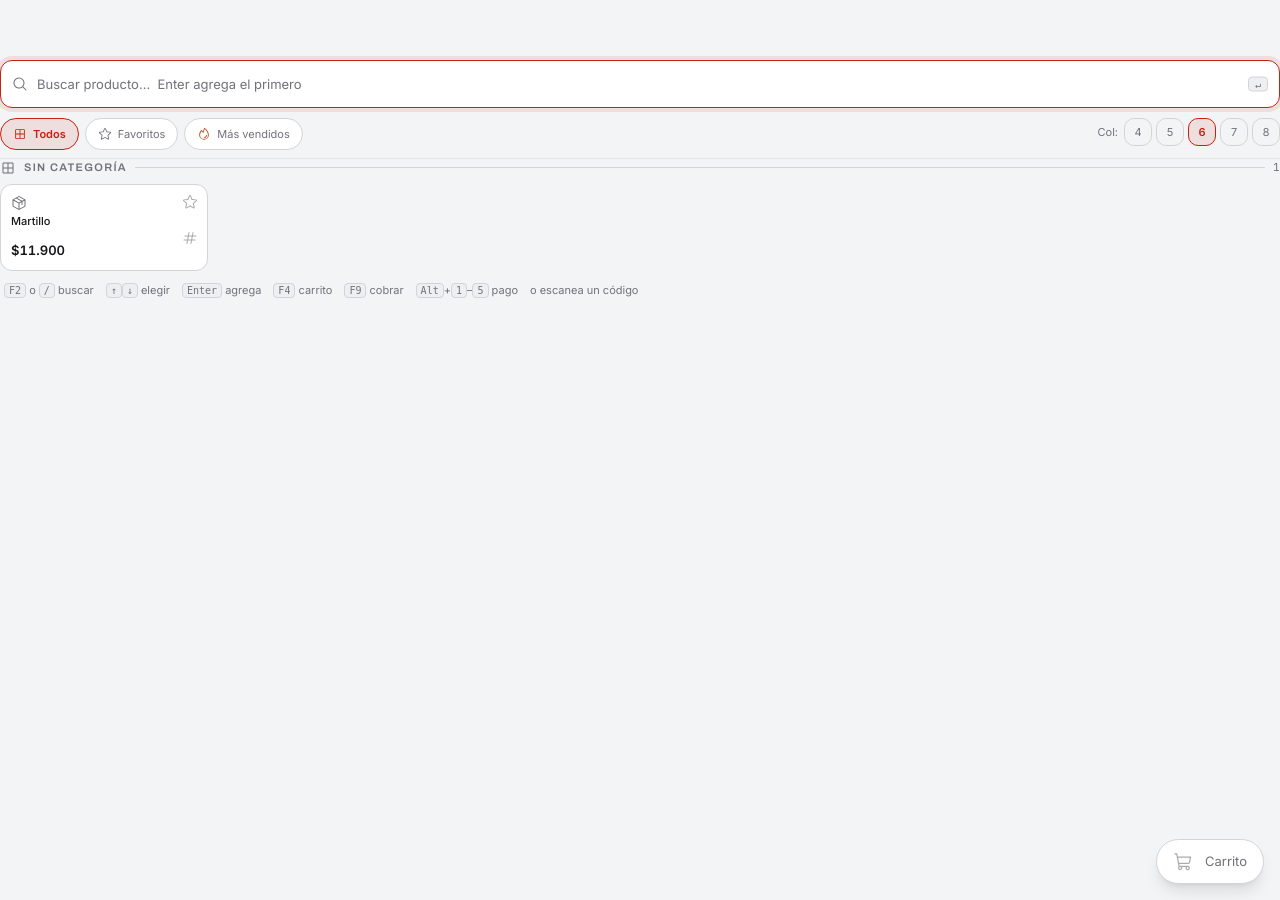
Test: TabVentasRapidas — cantidad rápida y barcode › el código de barras resuelve contra el catálogo LOCAL sin ir al servidor
The width and height of the screenshot is (1280, 900).
Expected: the button with aria-label "Agregar Martillo" is shown, [0,184,208,271]
Press 7
Press 7
Press 0
Press 1
Press Enter
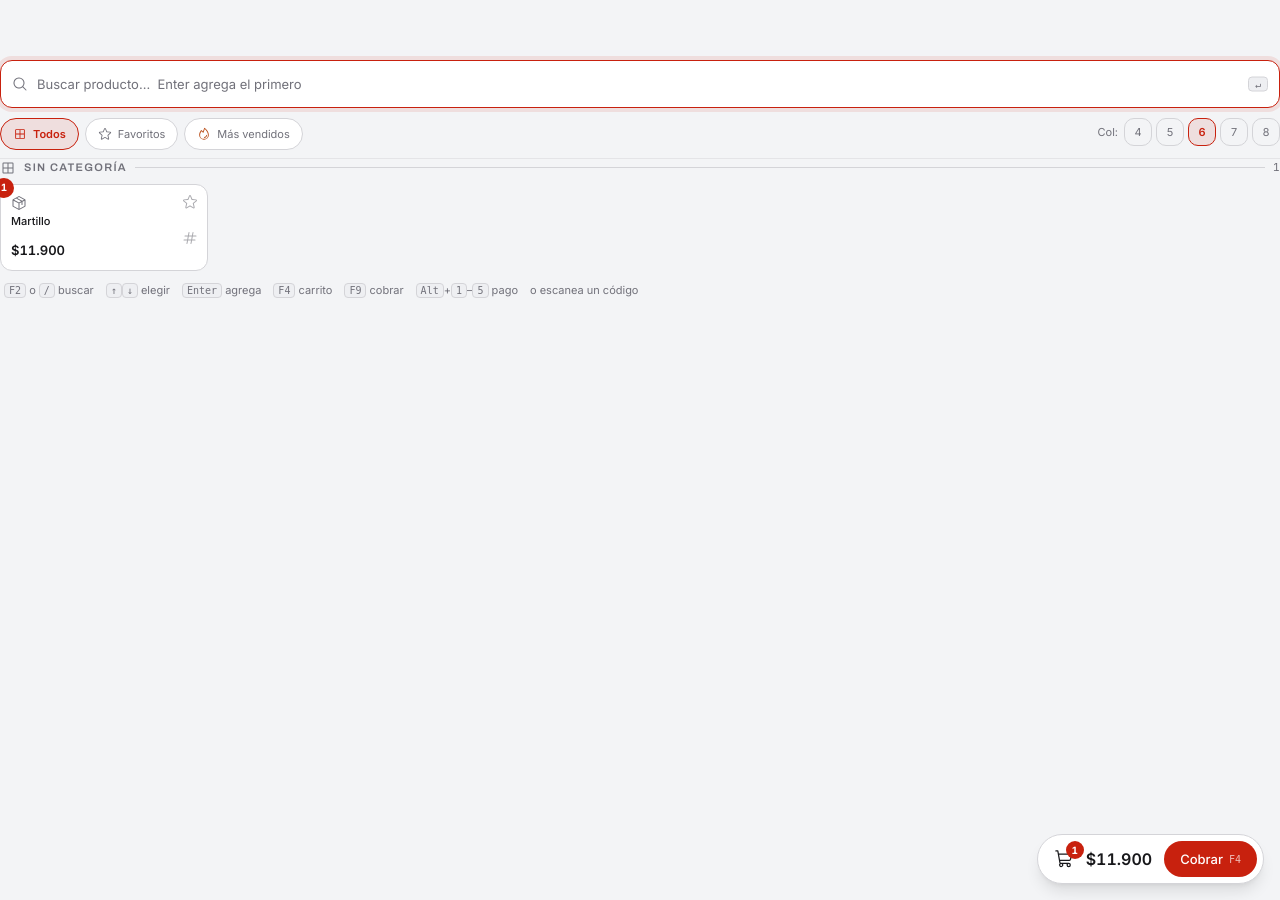
Click the button with aria-label "Abrir carrito": coordinates (1150, 859) [1037,834,1264,884]
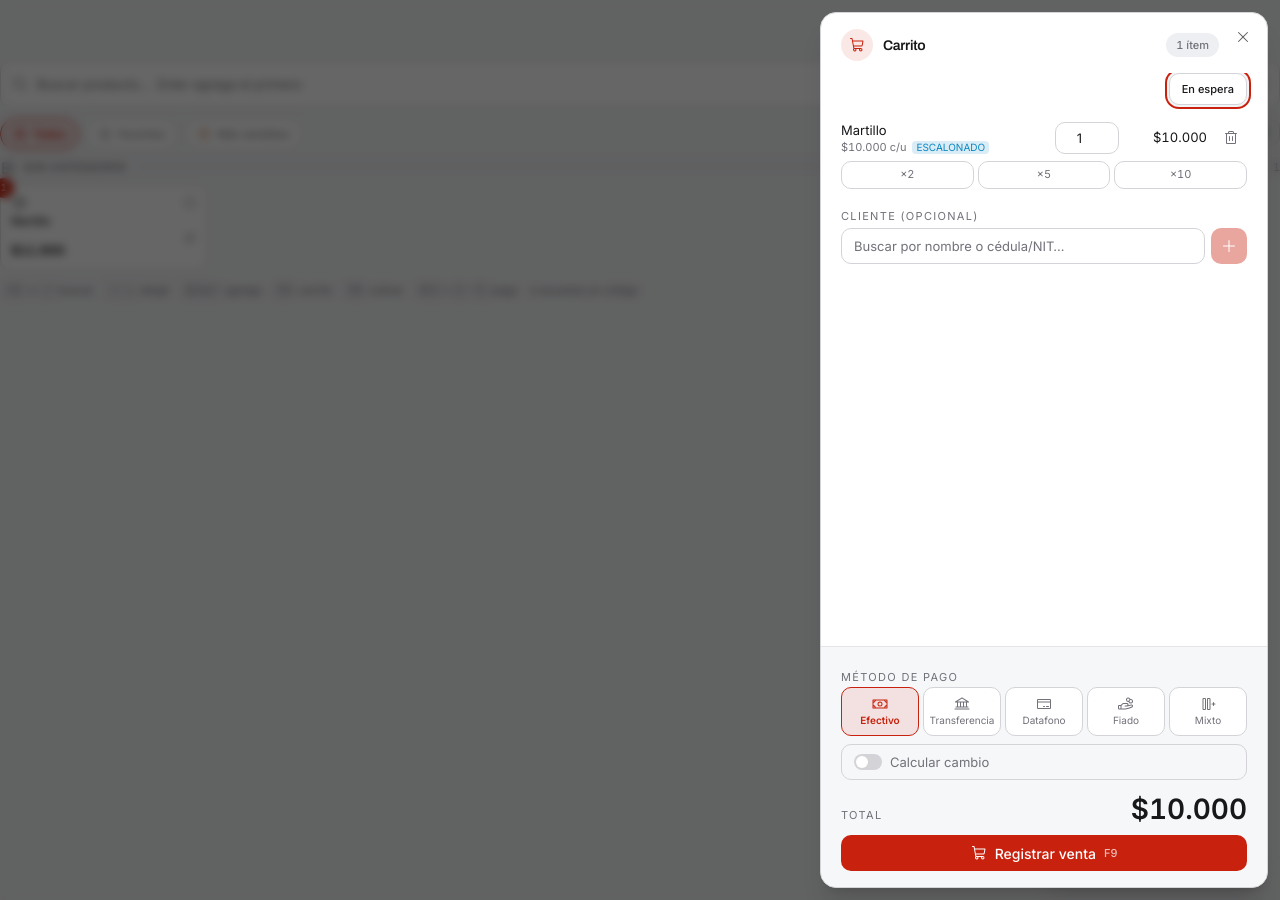
Now the button "Registrar venta F9" is shown, box [841,835,1247,871]
Now the number field named "Cantidad de Martillo" is shown, box [1055,122,1119,154]
